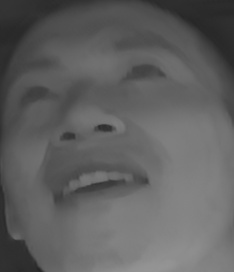eye: (117, 56, 168, 91), (15, 81, 64, 110)
mouth: (50, 158, 151, 218)
